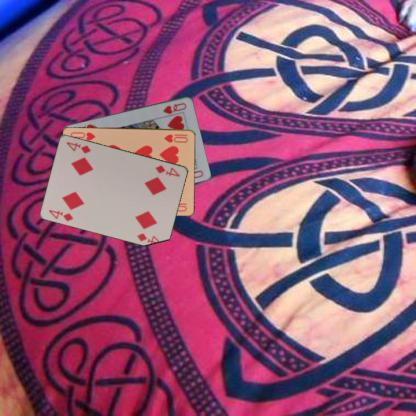10h: (162, 131, 189, 144)
4d: (153, 162, 182, 178), (46, 207, 75, 222)
Qh: (160, 100, 188, 115)
